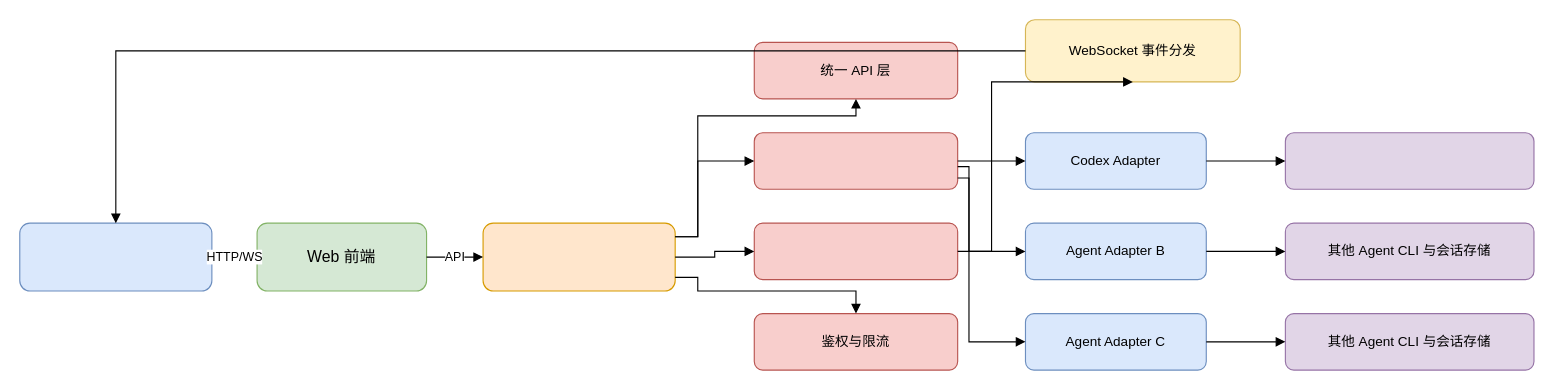
This 1554x390 diagram has some shape labels left out. Each missing label, with the centre of its shape:
Codex CLI 与会话存储: the point at 1409,160
Go 网关服务: the point at 578,256
事件标准化层: the point at 855,251
手机/桌面浏览器: the point at 115,256
适配器注册中心: the point at 855,160
